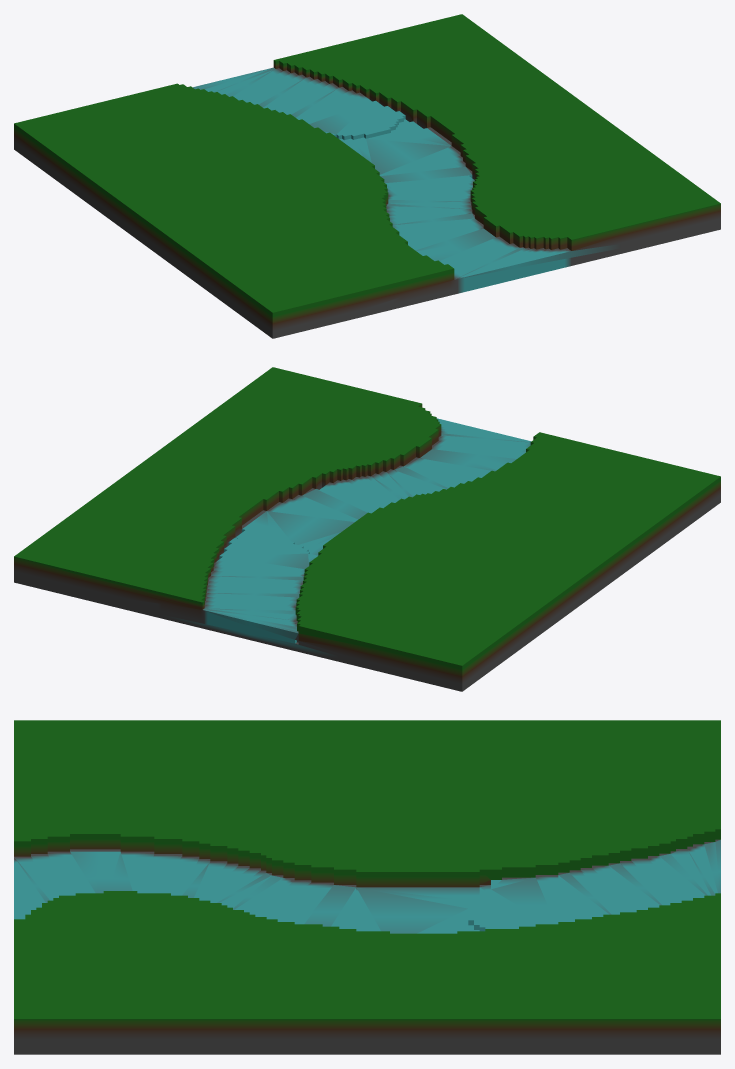
The model's file is RiverGlen.fbx.
3 views of the same model, one above another, from view 1: azimuth 30°, elevation 25°; view 2: azimuth 150°, elevation 25°; view 3: azimuth 270°, elevation 25° (orthographic). The views are drawn at different scales.
Parts seen in each view (by area): view 1: RiverGlenn.Merged; view 2: RiverGlenn.Merged; view 3: RiverGlenn.Merged.
Boxes of the visible parts, left/top/right/bottom form: RiverGlenn.Merged: left=14, top=14, right=720, bottom=338; RiverGlenn.Merged: left=14, top=367, right=720, bottom=691; RiverGlenn.Merged: left=14, top=720, right=720, bottom=1054.
Bounding box in the file's own units: 25200 × 1400 × 25200.
